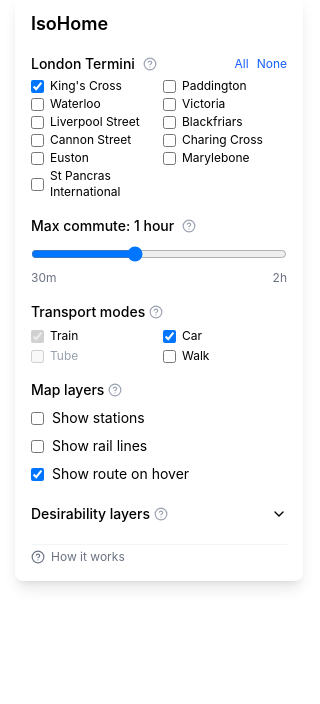
Scenario: IsoHomeControls › expands desirability panel on click
Click the button "Desirability layers": x=159, y=514 [31,500,287,528]
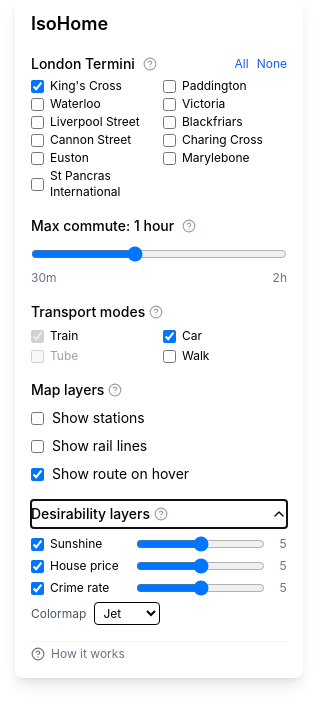
Check: the button "Desirability layers" is expanded, box [31,500,287,528]
Check: the slider named "Sunshine weight" is shown, box [136,536,265,552]
Check: the slider named "House price weight" is shown, box [136,558,265,574]
